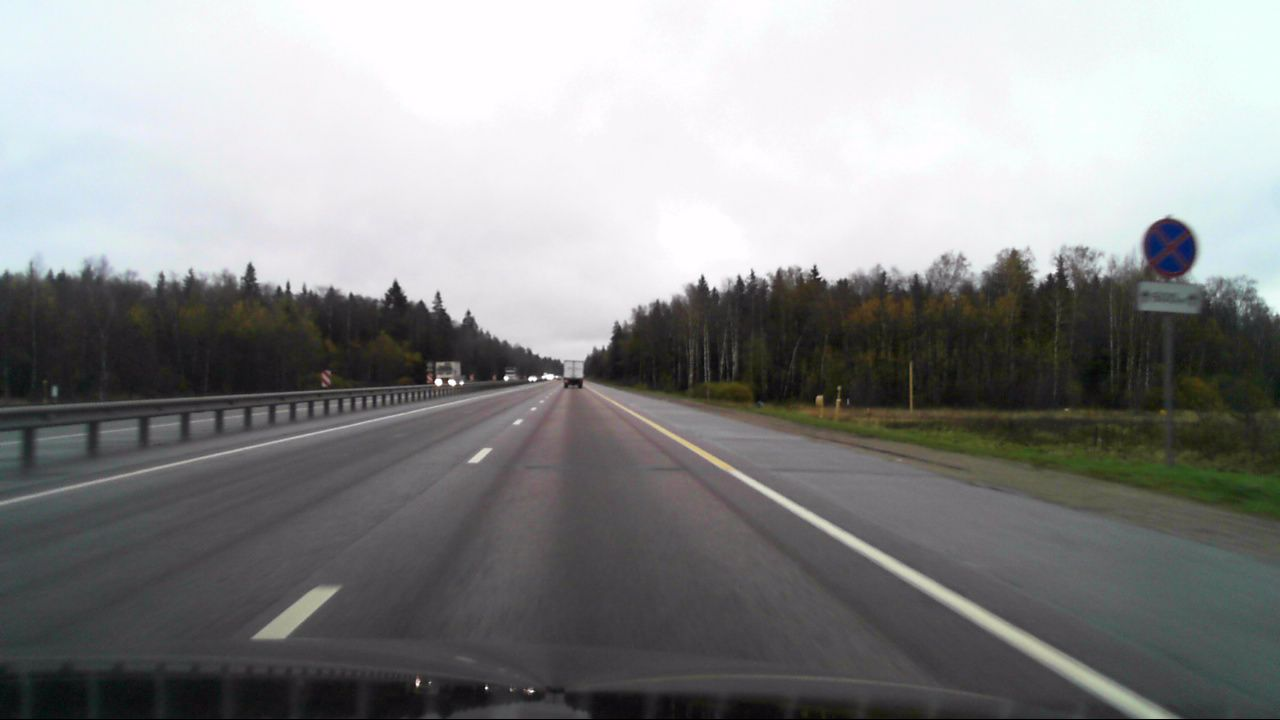No Parking: (1142, 217, 1196, 280)
